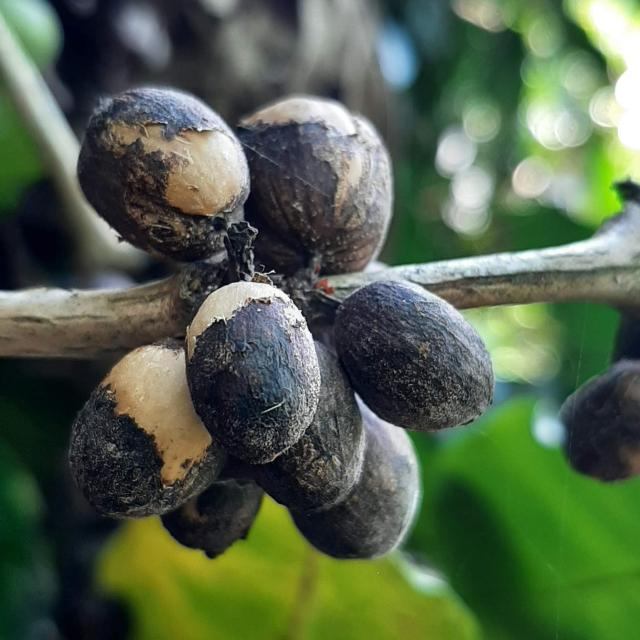red: (77, 87, 250, 262), (237, 95, 394, 275), (68, 342, 225, 519), (334, 280, 495, 432), (291, 396, 421, 560), (254, 341, 366, 513), (561, 360, 640, 482), (161, 479, 264, 559)
